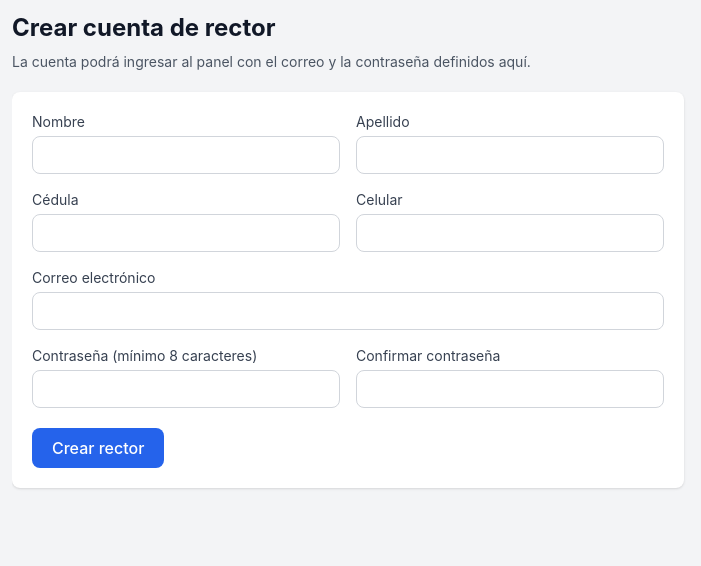
Scenario: creates a rector account using the entered profile details
Type "Rosa" into the field labelled "Nombre" at (186, 155), box [32,136,340,174]
Type "Rectores" into the field labelled "Apellido" at (510, 155), box [356,136,664,174]
Type "1234567890" into the field labelled "Cédula" at (186, 233), box [32,214,340,252]
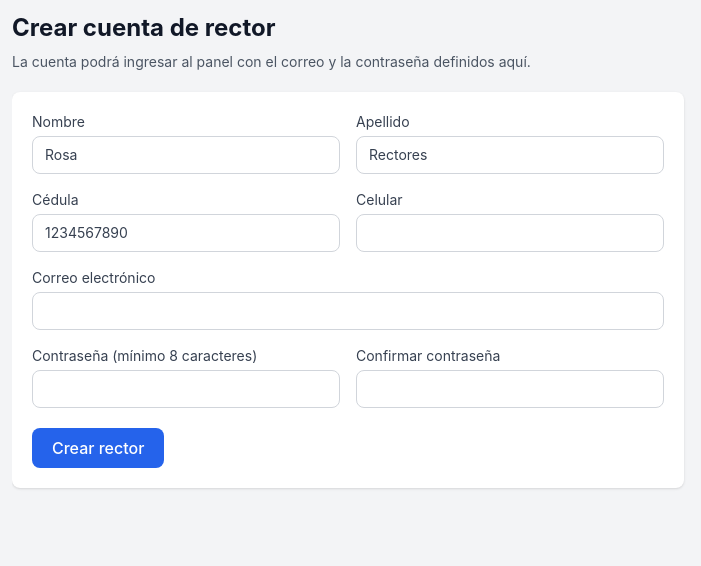
Type "3001234567" into the field labelled "Celular" at (510, 233), box [356,214,664,252]
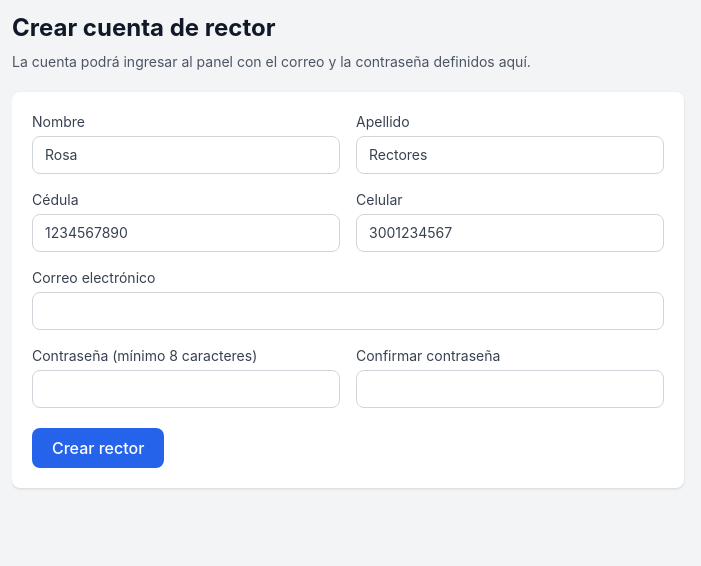
Type "rectora@example.com" into the field labelled "Correo electrónico" at (348, 311), box [32,292,664,330]
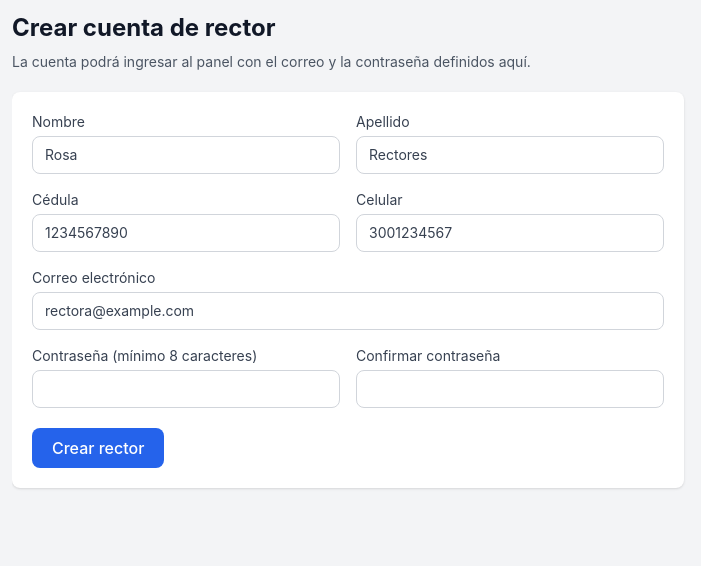
Type "temporal-segura" into the password field labelled "Contraseña (mínimo 8 caracteres)" at (186, 389), box [32,370,340,408]
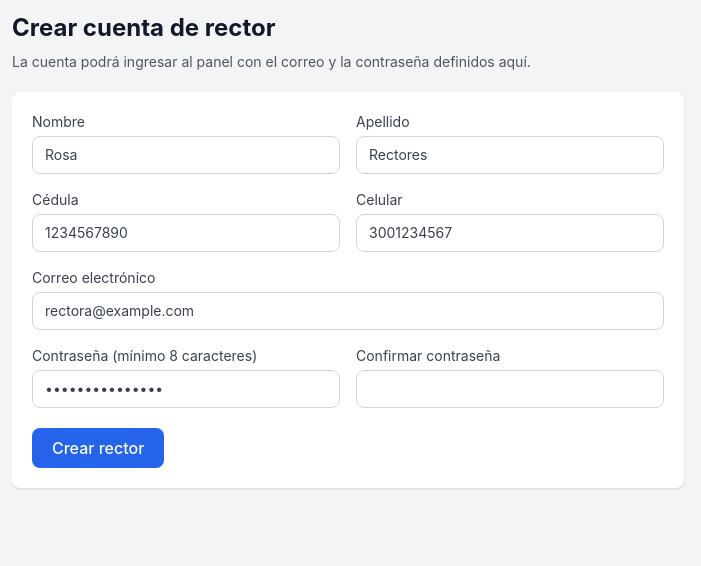
Type "temporal-segura" into the password field labelled "Confirmar contraseña" at (510, 389), box [356,370,664,408]
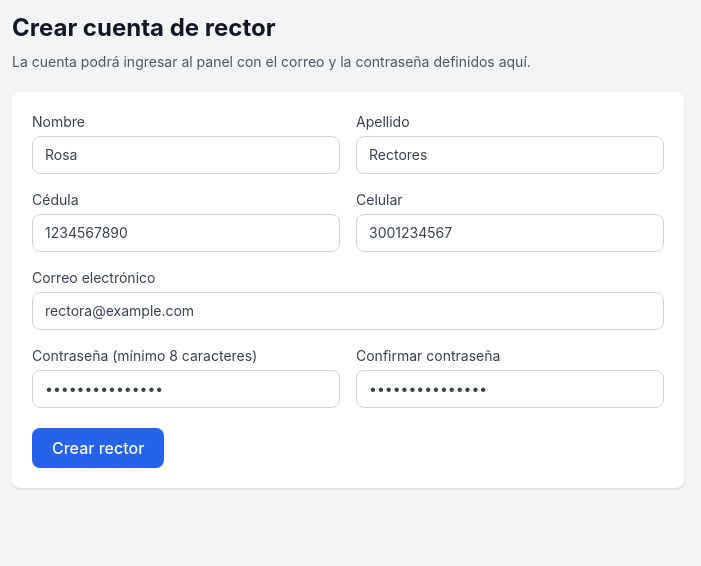
Click the button "Crear rector" at (98, 448), box [32,428,164,468]
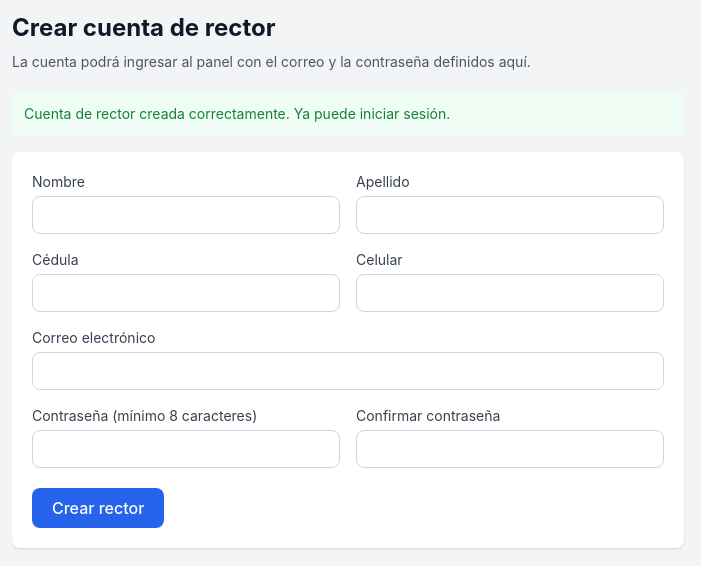
Result: the message shows "Cuenta de rector creada correctamente" at [24,105,450,122]
